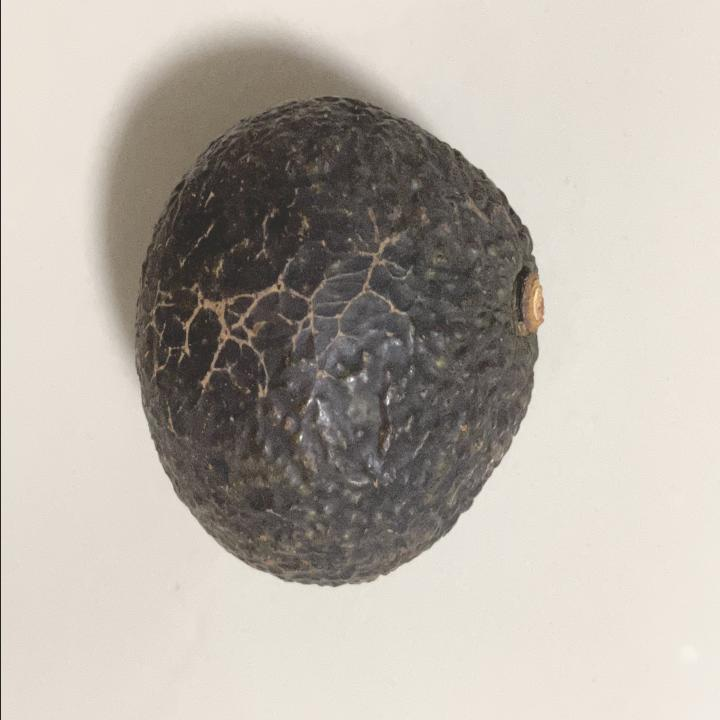Level2: (126, 90, 554, 594)
